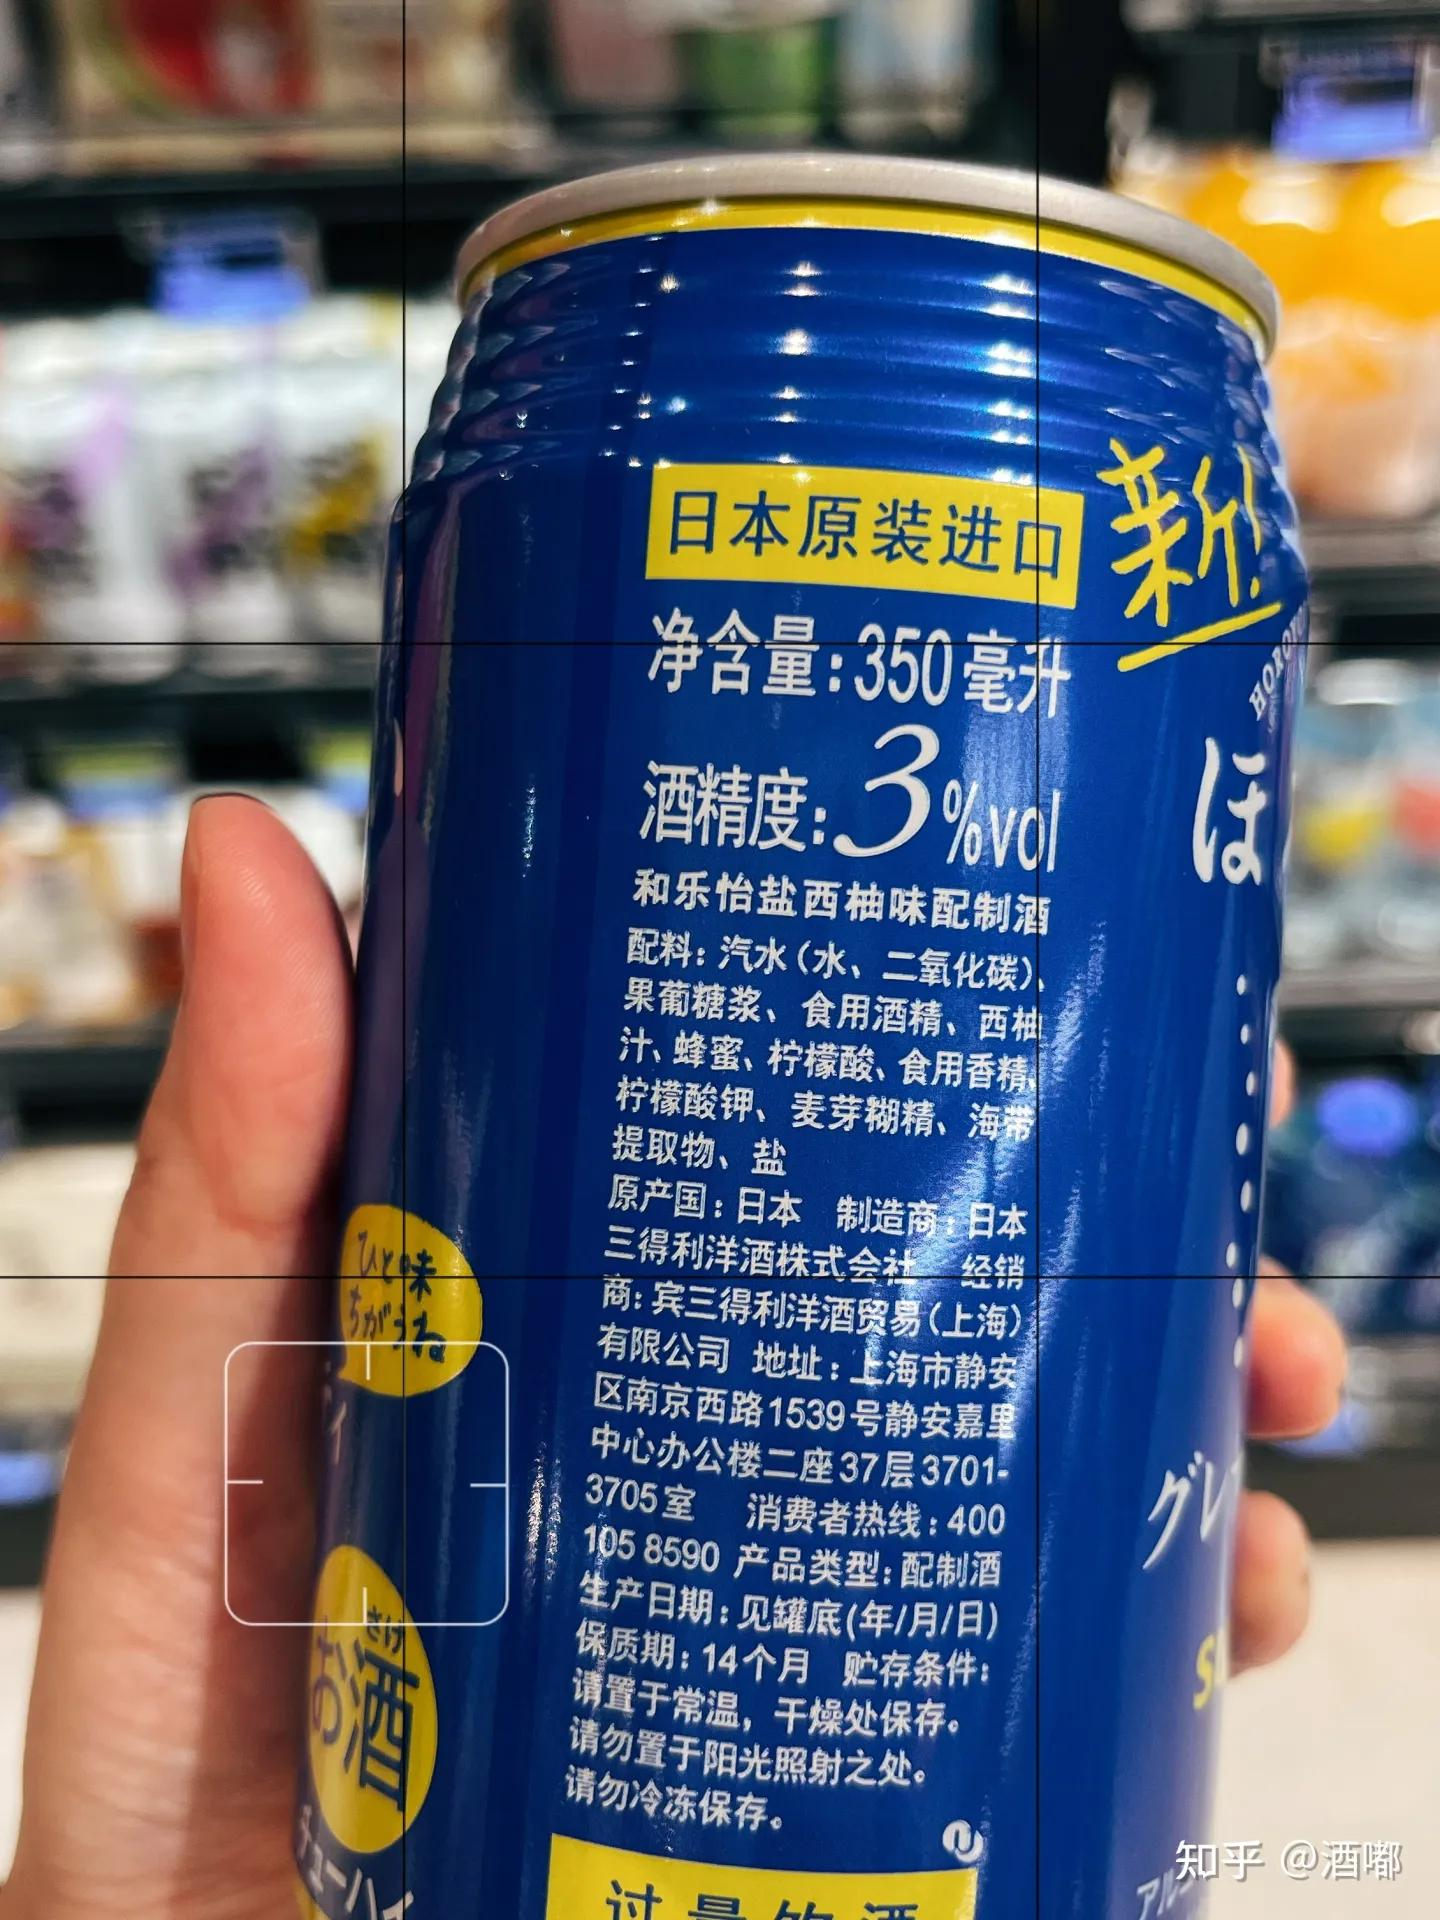metal: (296, 144, 1314, 1920)
